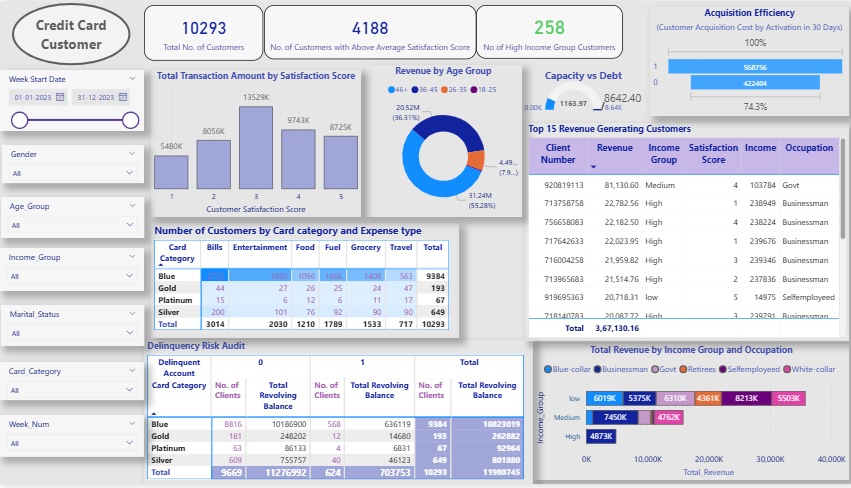

The dashboard page shown, as its layout file describes it:
{"tool":"powerbi","page":{"name":"Credit Card Customer Report","canvas":[1280,720],"ordinal":1},"visuals":[{"type":"pivotTable","title":"Delinquency Risk Audit","fields":{"Rows":["CreditCard.Card_Category"],"Columns":["CreditCard.Delinquent_Acc"],"Values":["Count(CreditCard.Client_Num)","Sum(CreditCard.Total_Revolving_Bal)"]},"box":[215.6,505.2,581.2,214.6],"z":0},{"type":"funnel","title":"Acquisition Efficiency ","fields":{"Category":["CreditCard.Activation_30_Days"],"Y":["Sum(CreditCard.Customer_Acq_Cost)"]},"box":[970.1,7.2,296.9,162.9],"z":1000},{"type":"card","fields":{"Values":["Count(CreditCard.Client_Num)"]},"box":[215.6,4.2,178.1,83.3],"z":2000},{"type":"slicer","fields":{"Values":["customer.Gender"]},"box":[3.2,213.8,211.7,57.4],"z":3000},{"type":"slicer","fields":{"Values":["customer.Age_Group"]},"box":[1.1,290.4,213.8,60.6],"z":4000},{"type":"slicer","fields":{"Values":["customer.Income_Group"]},"box":[0,367,214.9,63.8],"z":5000},{"type":"slicer","fields":{"Values":["customer.Marital_Status"]},"box":[1.1,452.1,213.8,60.6],"z":6000},{"type":"slicer","fields":{"Values":["CreditCard.Card_Category"]},"box":[0,537.2,214.9,57.4],"z":7000},{"type":"slicer","fields":{"Values":["CreditCard.Week_Start_Date"]},"box":[0,101,215.2,90.9],"z":8000},{"type":"slicer","fields":{"Values":["CreditCard.Week_Num"]},"box":[0,616,214.9,61.7],"z":9000},{"type":"actionButton","box":[18.2,1,176.8,92.9],"z":10000},{"type":"pivotTable","title":"Number of Customers by Card category and Expense type","fields":{"Rows":["CreditCard.Card_Category"],"Columns":["CreditCard.Exp Type"],"Values":["Count(CreditCard.Client_Num)"]},"box":[224.7,329.9,459.8,172.2],"z":11000},{"type":"gauge","title":"Capacity vs Debt","fields":{"Y":["Avg(CreditCard.Total_Revolving_Bal)"],"MaxValue":["Avg(CreditCard.Credit_Limit)"],"TargetValue":["Avg(CreditCard.Credit_Limit)"]},"box":[772.2,97.9,197.9,72.2],"z":12000},{"type":"donutChart","title":"Revenue by Age Group","fields":{"Y":["CreditCard.Total_Revenue"],"Category":["customer.Age_Group"]},"box":[544.3,93.8,234,226.8],"z":13000},{"type":"barChart","title":"Total Revenue by Income Group and Occupation","fields":{"Category":["customer.Income_Group"],"Y":["CreditCard.Total_Revenue"],"Series":["customer.Customer_Job"]},"box":[796.9,510.4,469.8,203.1],"z":14000},{"type":"clusteredColumnChart","title":"Total Transaction Amount by Satisfaction Score","fields":{"Category":["customer.Cust_Satisfaction_Score"],"Y":["Sum(CreditCard.Total_Trans_Amt)"]},"box":[225,101,313.5,219.8],"z":15000},{"type":"tableEx","title":"Top 15 Revenue Generating Customers","fields":{"Values":["customer.Client_Num","CreditCard.Total_Revenue","customer.Income_Group","customer.Cust_Satisfaction_Score","customer.Income","customer.Customer_Job"]},"box":[783.3,180.2,484.4,325],"z":16000},{"type":"card","fields":{"Values":["customer.High_satisfaction_Score_Count"]},"box":[393.8,5.2,316.7,81.2],"z":17000},{"type":"card","fields":{"Values":["customer.High_income_customer"]},"box":[710.4,4.2,218.8,80.2],"z":18000}]}

Visuals, with their boxes in screenshot pixels (x1, y1, x2, y2), scaled from the page's 1280x720 canvas onto the 851x488 screenshot:
"Delinquency Risk Audit" pivotTable: bbox=(143, 342, 530, 487)
"Acquisition Efficiency " funnel: bbox=(645, 5, 842, 115)
card - Count(CreditCard.Client_Num): bbox=(143, 3, 262, 59)
slicer - customer.Gender: bbox=(2, 145, 143, 184)
slicer - customer.Age_Group: bbox=(1, 197, 143, 238)
slicer - customer.Income_Group: bbox=(0, 249, 143, 292)
slicer - customer.Marital_Status: bbox=(1, 306, 143, 347)
slicer - CreditCard.Card_Category: bbox=(0, 364, 143, 403)
slicer - CreditCard.Week_Start_Date: bbox=(0, 68, 143, 130)
slicer - CreditCard.Week_Num: bbox=(0, 418, 143, 459)
actionButton: bbox=(12, 1, 130, 64)
"Number of Customers by Card category and Expense type" pivotTable: bbox=(149, 224, 455, 340)
"Capacity vs Debt" gauge: bbox=(513, 66, 645, 115)
"Revenue by Age Group" donutChart: bbox=(362, 64, 517, 217)
"Total Revenue by Income Group and Occupation" barChart: bbox=(530, 346, 842, 484)
"Total Transaction Amount by Satisfaction Score" clusteredColumnChart: bbox=(150, 68, 358, 217)
"Top 15 Revenue Generating Customers" tableEx: bbox=(521, 122, 843, 342)
card - customer.High_satisfaction_Score_Count: bbox=(262, 4, 472, 59)
card - customer.High_income_customer: bbox=(472, 3, 618, 57)
